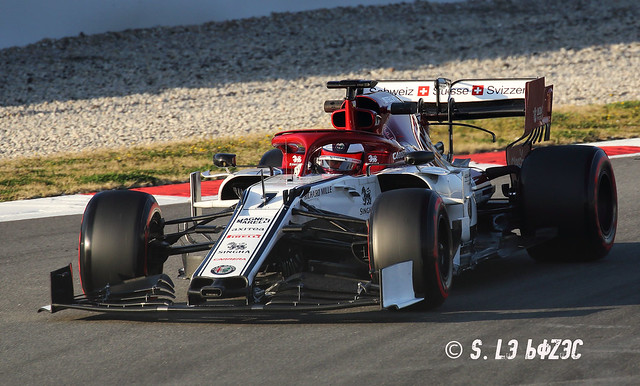F1 Car: (46, 75, 626, 321)
